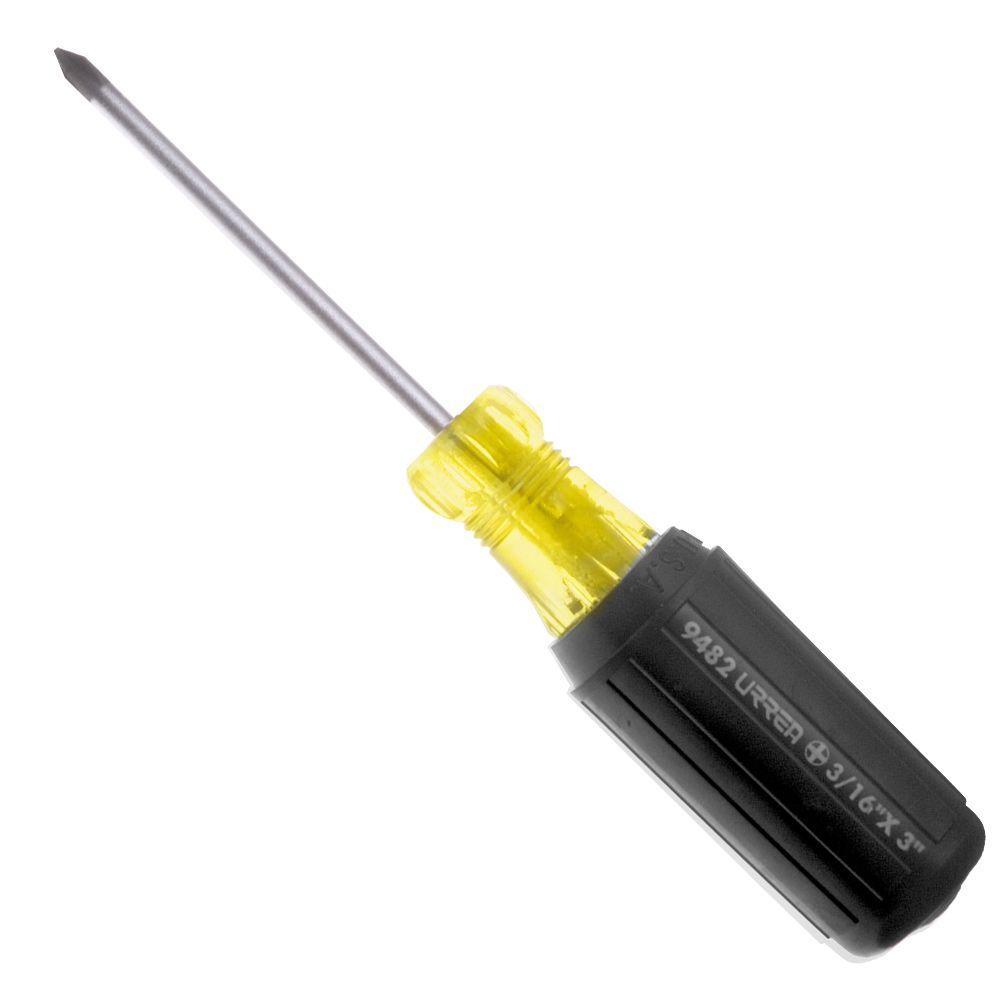screwdriver: (48, 43, 987, 962)
